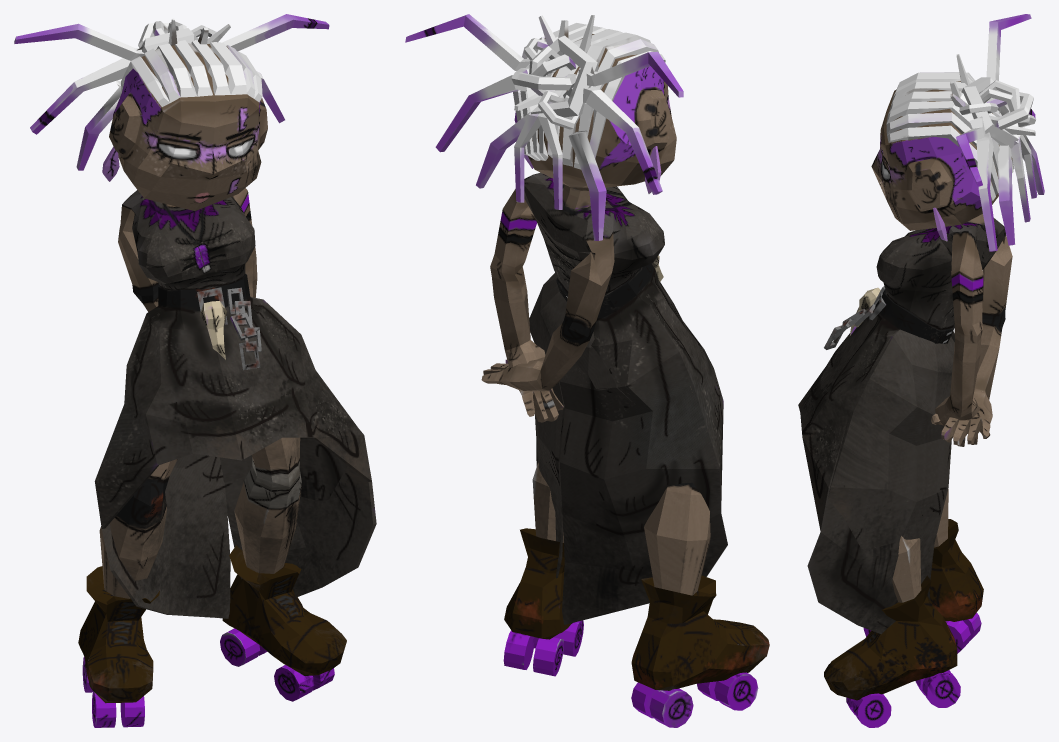
Rendered from bruja_000040.obj.
3 renders of one model, left to right at view 1: azimuth 30°, elevation 25°; view 2: azimuth 150°, elevation 25°; view 3: azimuth 270°, elevation 25°, orthographic. The views are drawn at different scales.
Parts seen in each view (by area): view 1: Bruja_Plane.001; view 2: Bruja_Plane.001; view 3: Bruja_Plane.001.
Part boxes in pixels (x1=…): Bruja_Plane.001: x1=14, y1=14, x2=376, y2=727; Bruja_Plane.001: x1=405, y1=14, x2=769, y2=727; Bruja_Plane.001: x1=798, y1=14, x2=1044, y2=727.
Size of the model in its own units: 7.37 by 16.05 by 5.7.
